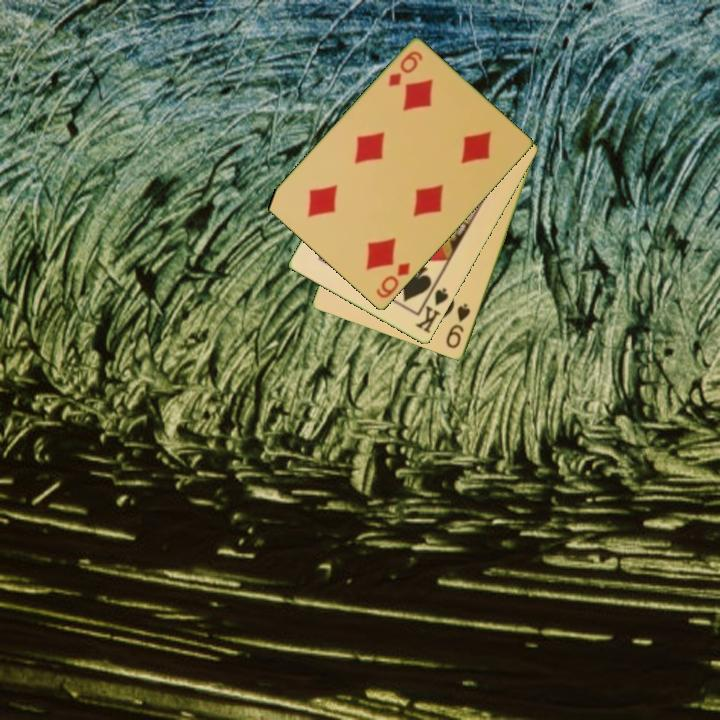6d: (384, 48, 425, 90), (373, 259, 413, 302)
9s: (442, 300, 474, 352)
Ks: (412, 285, 452, 337)
